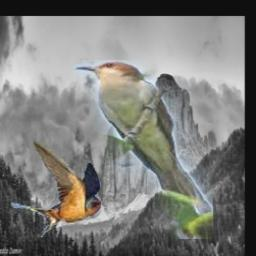Cuckoo: (74, 61, 214, 240)
Swallow: (11, 142, 101, 238)
